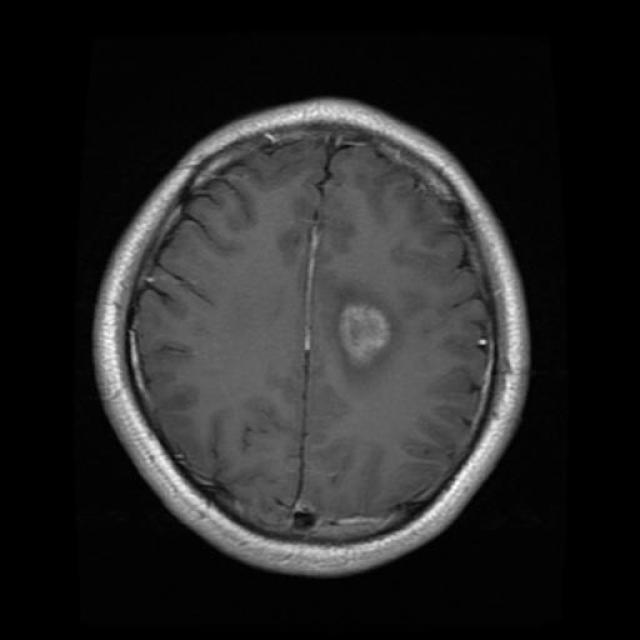brain_tumor: (339, 304, 390, 367)
